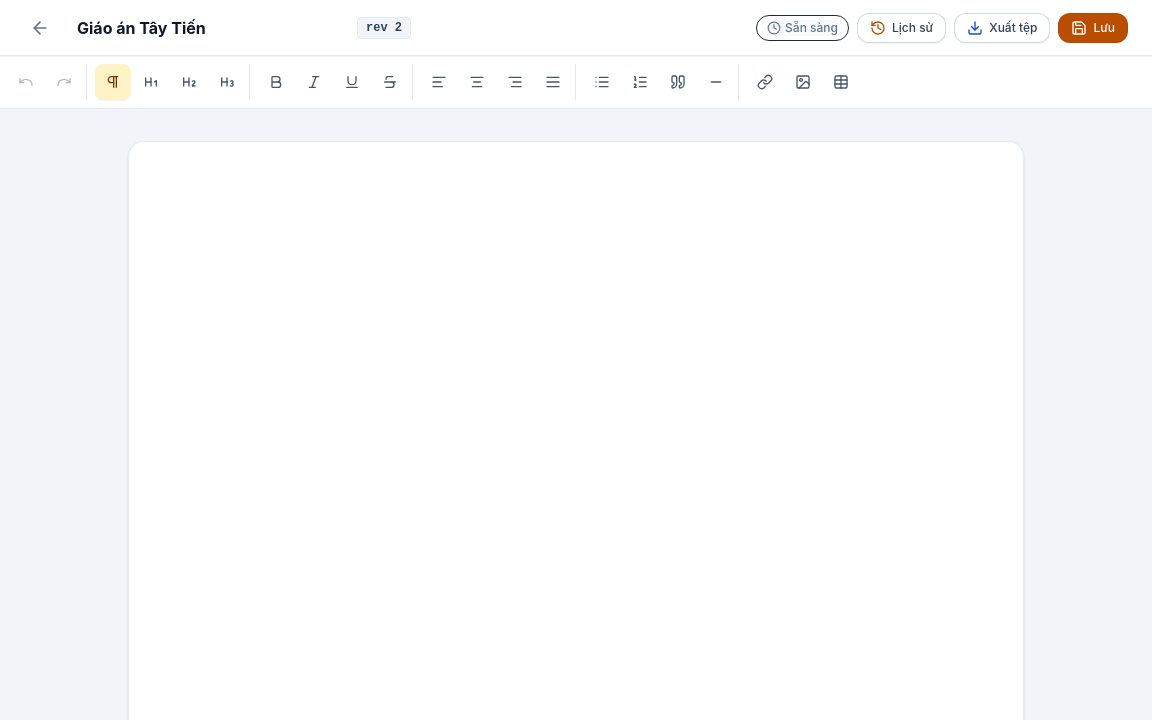
Test: DocumentEditorPage › opens VersionHistoryDrawer when clicking "Lịch sử"
Check: the field showing "Giáo án Tây Tiến" is shown, box [68,10,349,44]
Click the button "Lịch sử" at coordinates (902, 28), box [857,12,946,42]
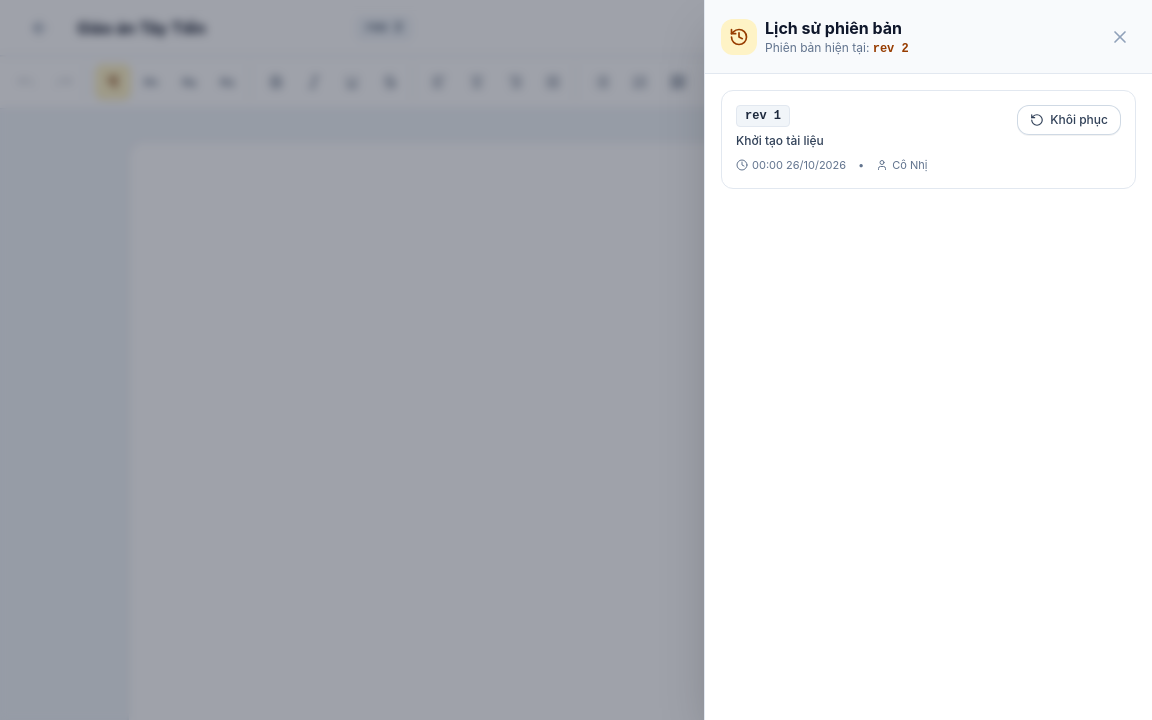
Check: the heading "Lịch sử phiên bản" is shown, box [765,16,909,40]
Check: the text "Khởi tạo tài liệu" is shown, box [736,133,824,149]
